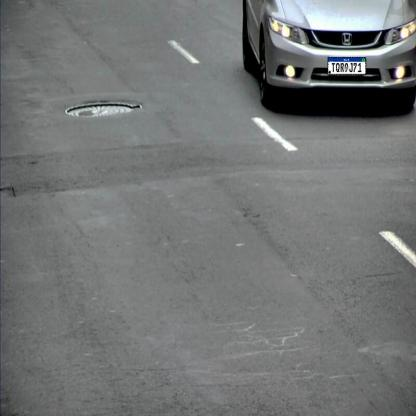PlacaM: (328, 57, 366, 75)
